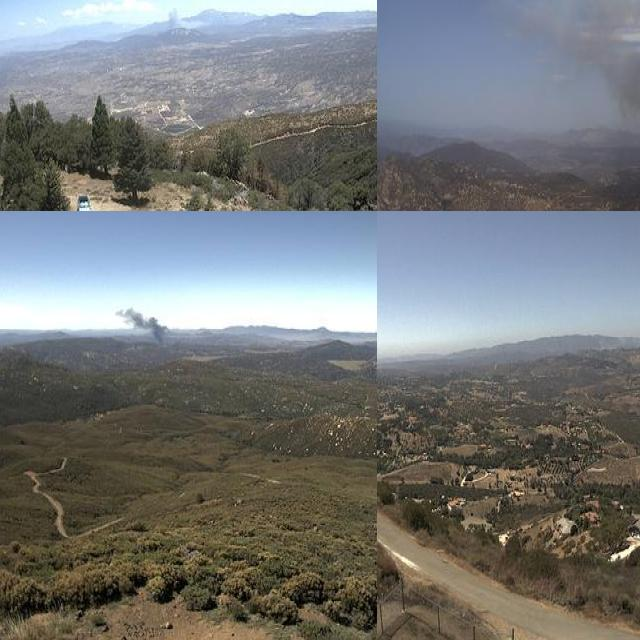smoke: (516, 0, 640, 157), (110, 298, 170, 346), (587, 313, 640, 353), (160, 0, 210, 41)
